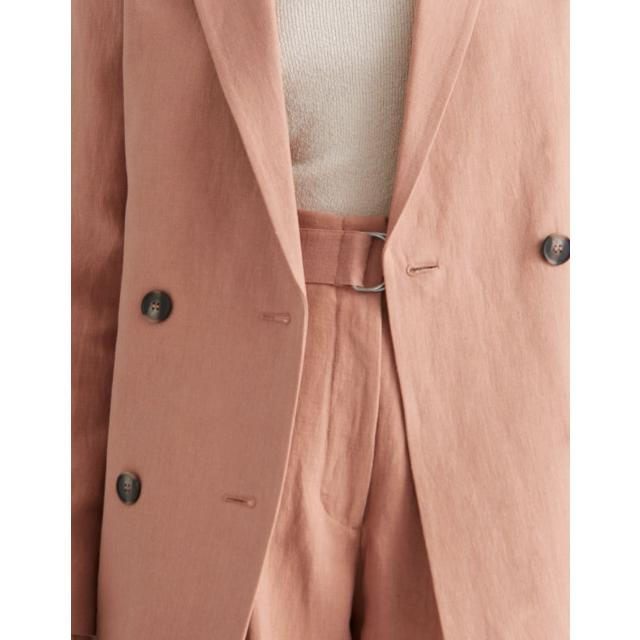silk: (70, 0, 570, 640)
